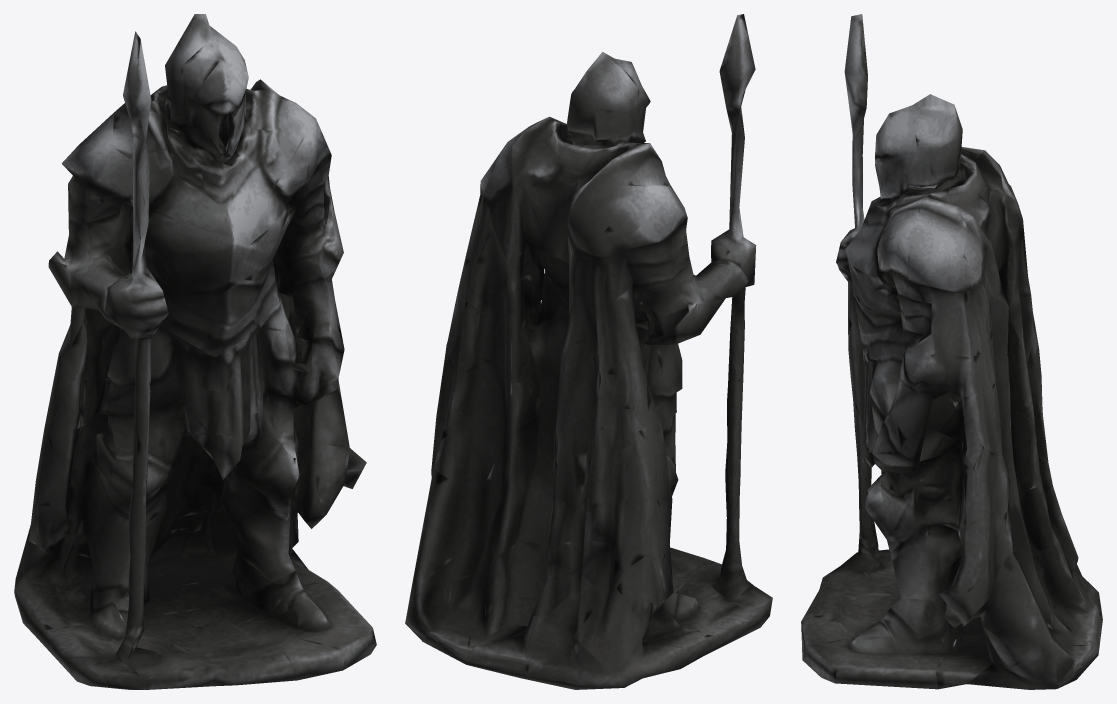
The model's file is guardian_statue_standing.glb.
3 views of the same model, side by side, from view 1: azimuth 30°, elevation 25°; view 2: azimuth 150°, elevation 25°; view 3: azimuth 270°, elevation 25° (orthographic). The views are drawn at different scales.
Size of the model in its own units: 1.02 by 2 by 0.9525.
Materials: 1 (1 with a texture image).
